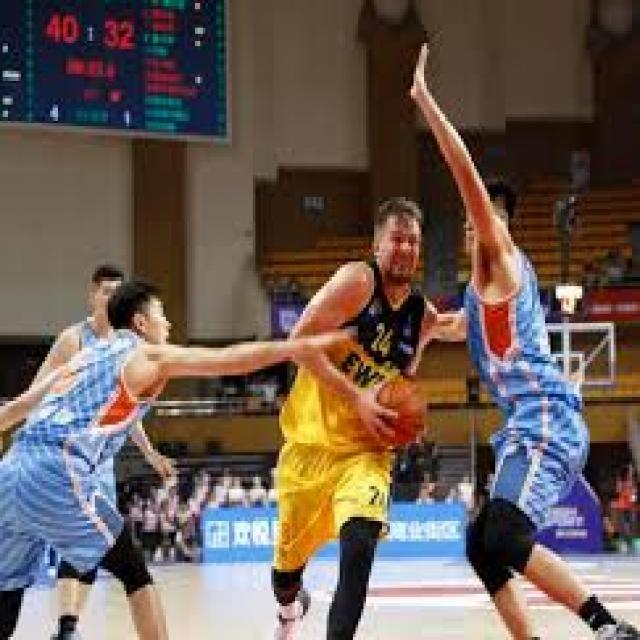rim: (368, 376, 426, 446)
